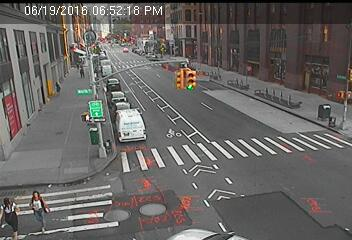neg: (73, 107, 96, 137), (267, 55, 287, 83), (242, 63, 261, 88), (316, 100, 334, 124), (336, 81, 351, 105), (209, 67, 224, 88)
pos: (19, 187, 55, 234), (75, 63, 89, 82)
